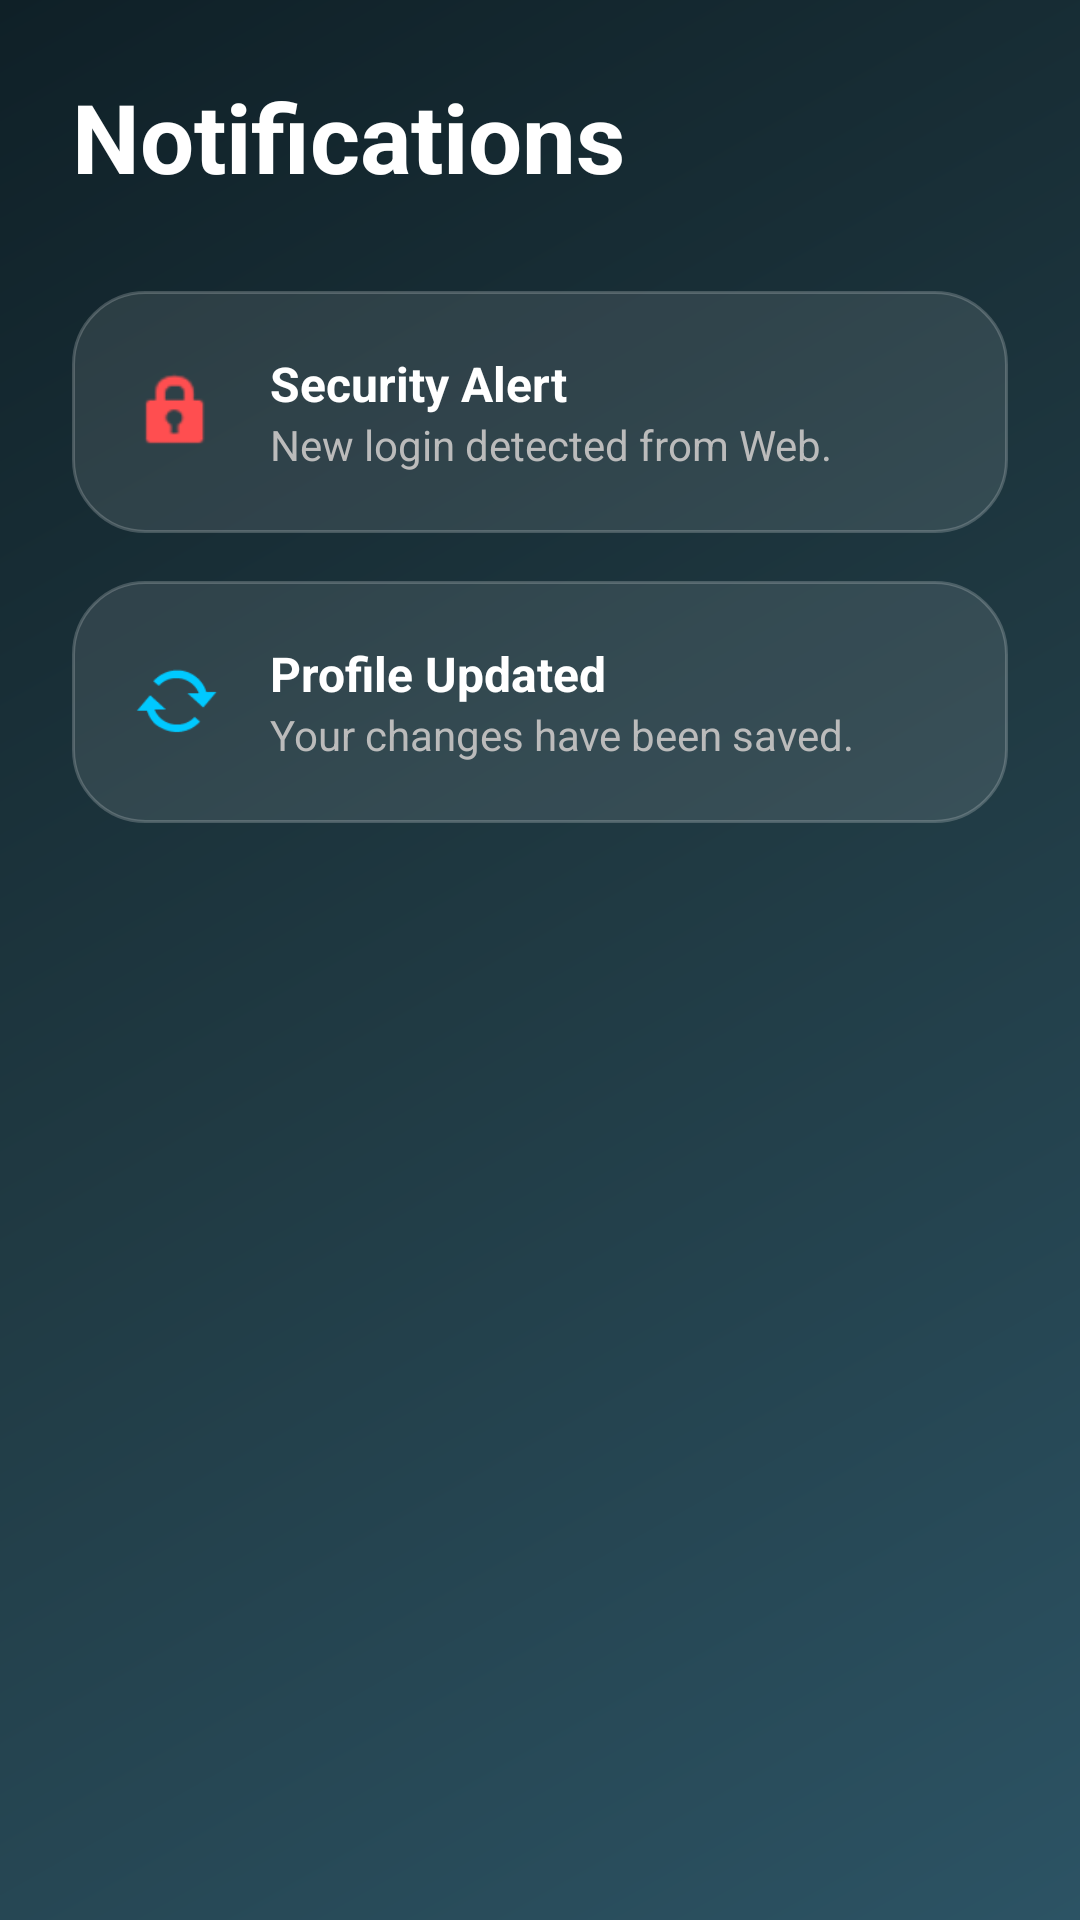

Screen size 1080px×1920px. Icon name, then its box in pixels as (x1, y1, x2, y2):
lock idle: (145, 375, 204, 444)
sync: (137, 670, 217, 732)
